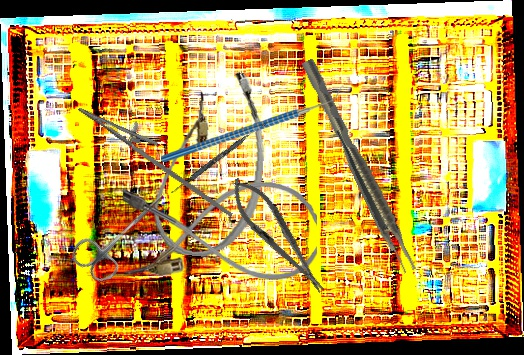Cannula: (149, 65, 273, 262), (123, 182, 317, 280)
Chopper: (161, 85, 344, 162)
Iris Scissors: (66, 174, 181, 289)
Needle Holder: (66, 94, 251, 218), (219, 169, 336, 303)
Spatula Surgical: (170, 119, 267, 197)
Tissue Forceps: (301, 55, 419, 276)
